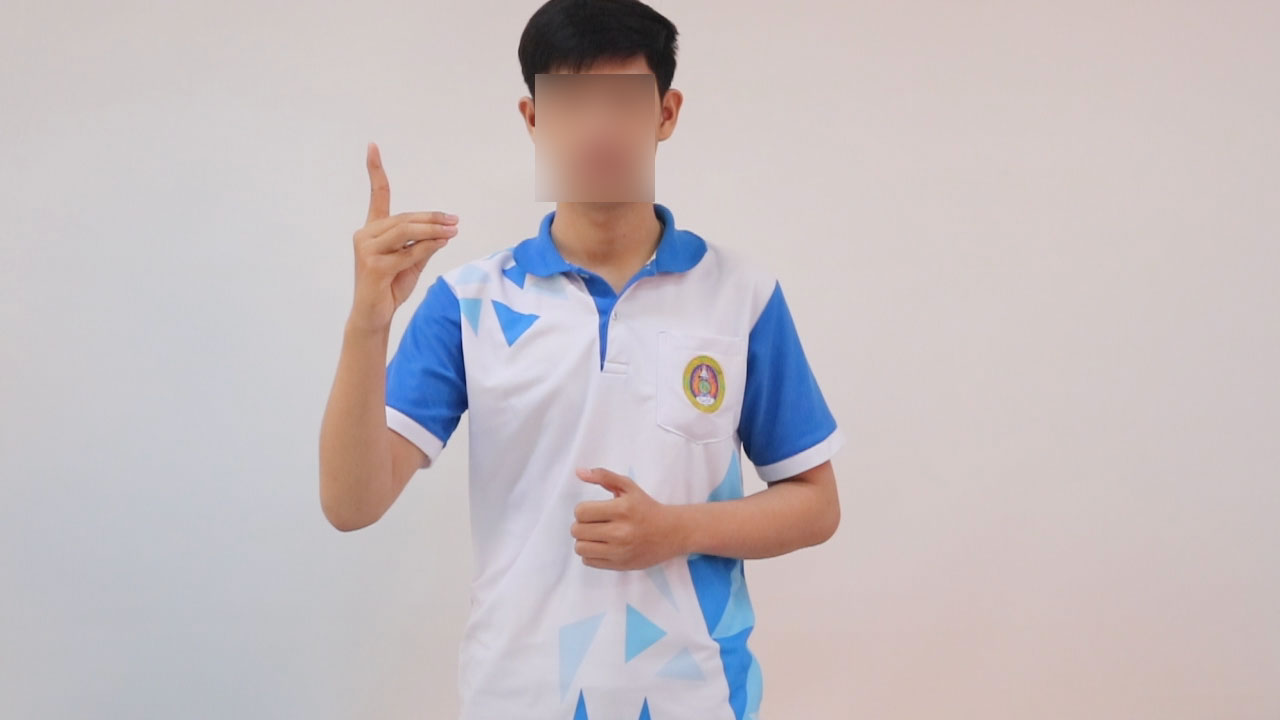dor: (340, 134, 468, 329)
